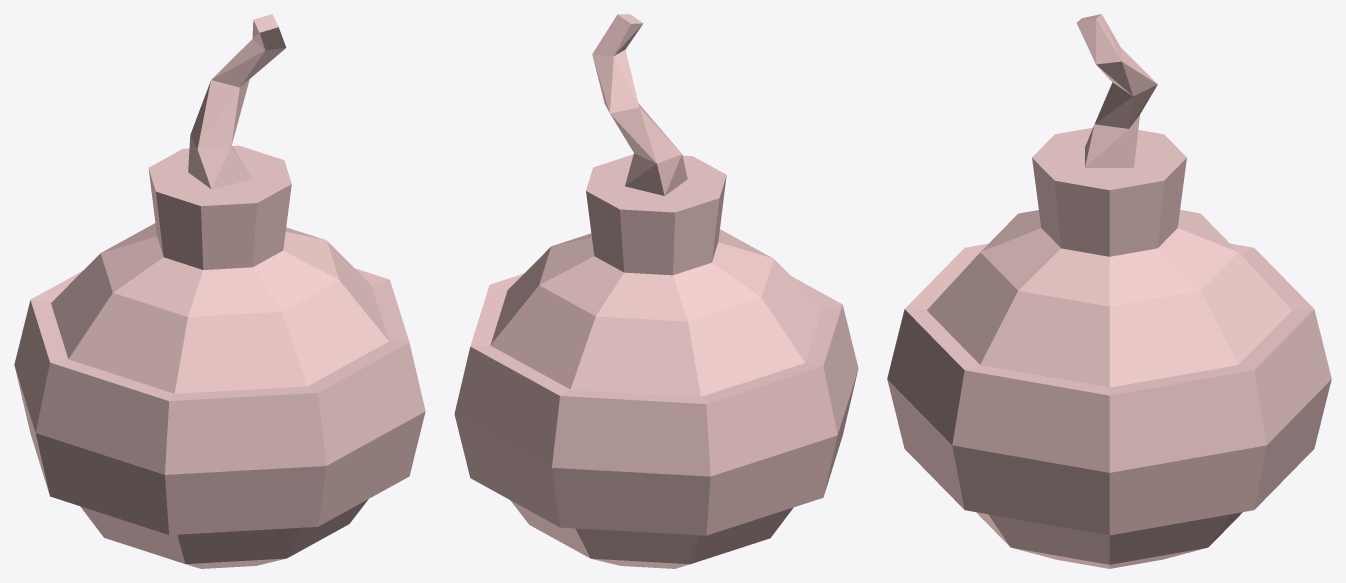
File: SM_Item_Pomb_Attachment_01.glb
3 renders of one model, left to right at view 1: azimuth 30°, elevation 25°; view 2: azimuth 150°, elevation 25°; view 3: azimuth 270°, elevation 25°, orthographic. The views are drawn at different scales.
Parts seen in each view (by area): view 1: SM_Item_Pomb_Attachment_01_00; view 2: SM_Item_Pomb_Attachment_01_00; view 3: SM_Item_Pomb_Attachment_01_00.
Part boxes in pixels (bbox=[...]): SM_Item_Pomb_Attachment_01_00: bbox=[14, 14, 425, 568]; SM_Item_Pomb_Attachment_01_00: bbox=[454, 14, 858, 568]; SM_Item_Pomb_Attachment_01_00: bbox=[887, 14, 1331, 568].
Size of the model in its own units: 0.1563 by 0.2101 by 0.1563.
Materials: 1 (1 with a texture image).
